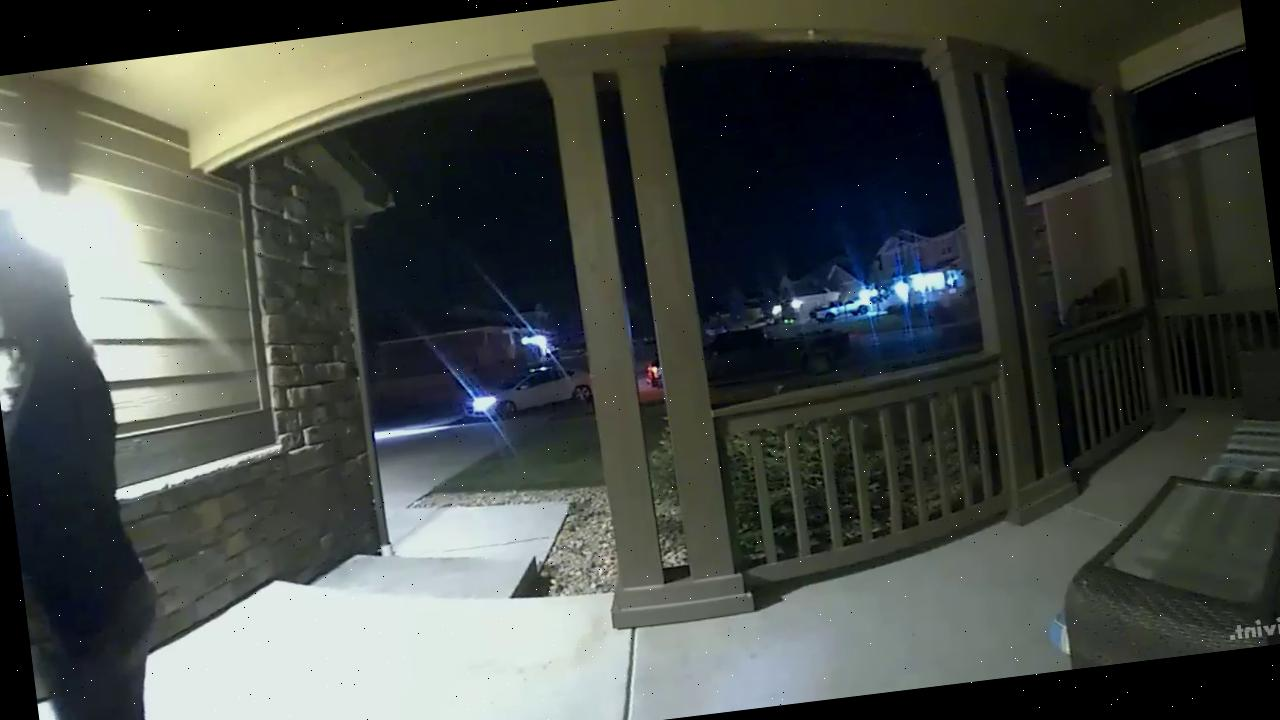suspicion: (0, 149, 237, 720)
